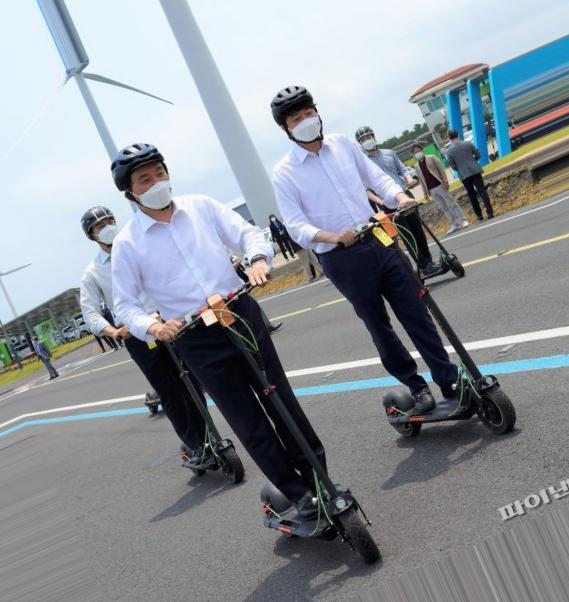scooter: (157, 269, 380, 566), (340, 198, 517, 437)
with helmet: (109, 142, 173, 212), (272, 85, 323, 141), (82, 207, 122, 246), (353, 125, 379, 153)
